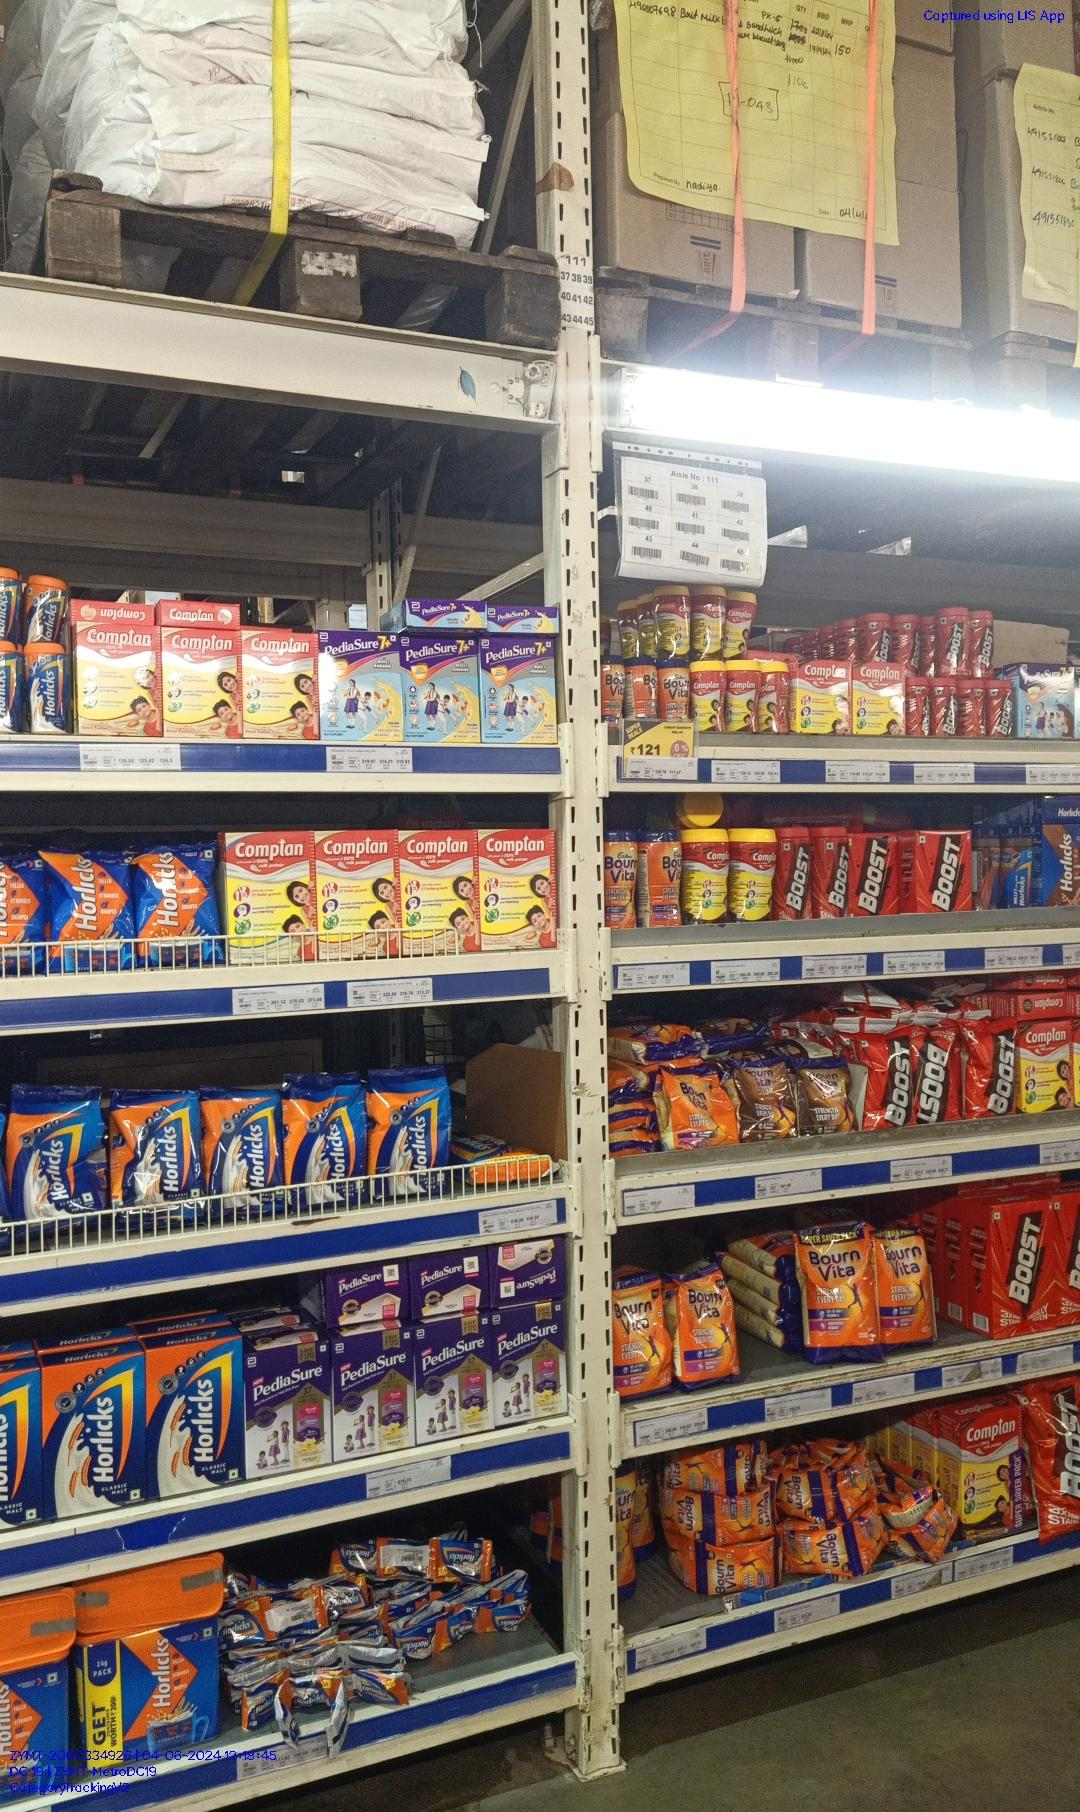BOURN_VITA_FIVE_STAR_MAGIC_500_G_POUCH: (796, 1051, 855, 1137), (737, 1055, 793, 1140)
HORLICK_MALT_1_KG_CONTAINER: (80, 1612, 221, 1767)
